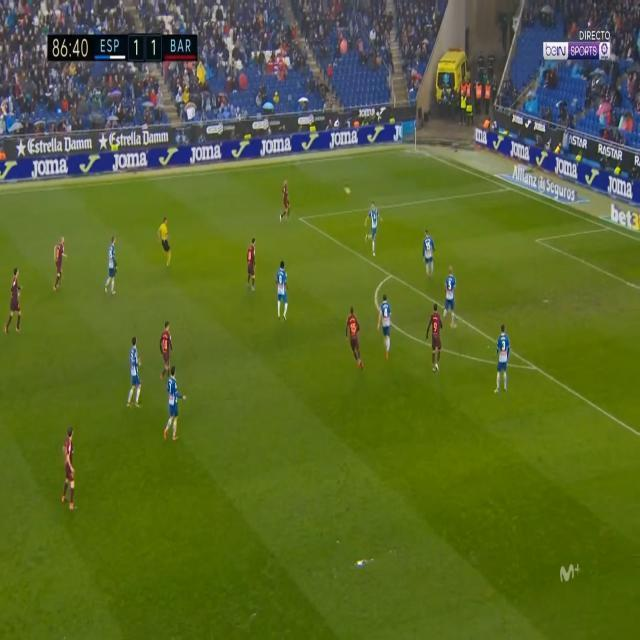ball: (345, 181, 352, 200)
player: (56, 421, 84, 518), (125, 333, 148, 412), (162, 366, 185, 443), (492, 321, 513, 399), (5, 266, 26, 341), (343, 303, 366, 369), (102, 231, 123, 297), (157, 316, 177, 381), (51, 231, 70, 295), (428, 305, 446, 372), (377, 292, 395, 358), (273, 260, 291, 323), (442, 267, 459, 330), (243, 234, 259, 294), (420, 227, 437, 281), (367, 202, 382, 255), (280, 177, 294, 223)
referee: (159, 213, 178, 271)
